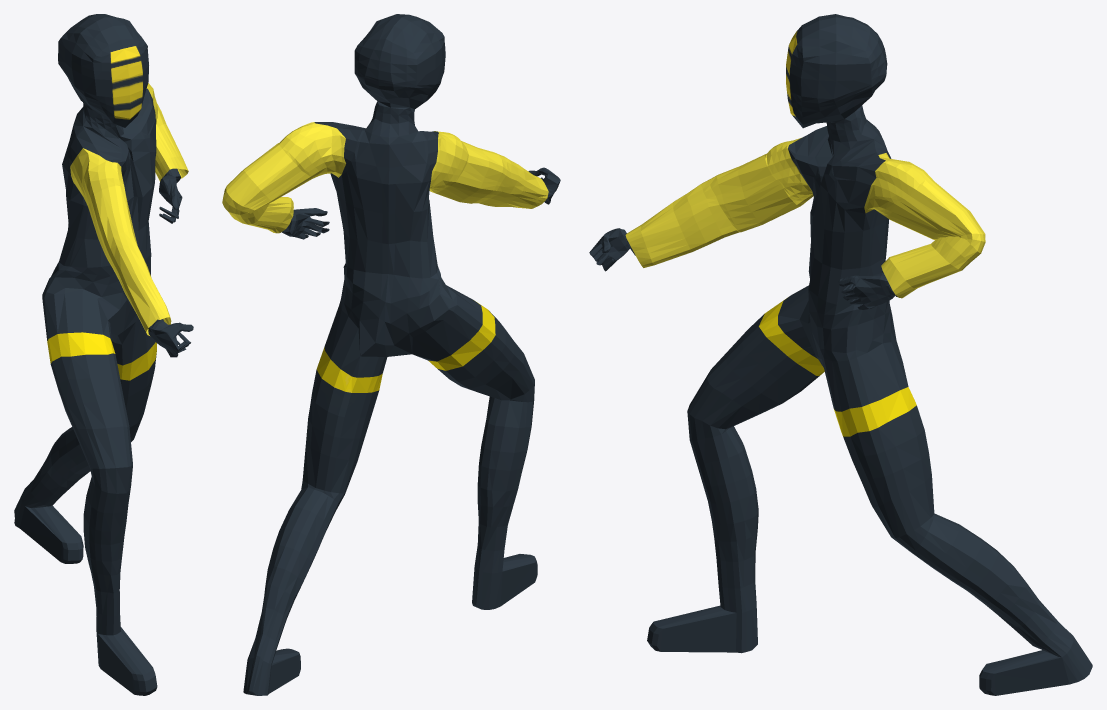
File: Sentry_WL_000001.obj
3 renders of one model, left to right at view 1: azimuth 30°, elevation 25°; view 2: azimuth 150°, elevation 25°; view 3: azimuth 270°, elevation 25°, orthographic. The views are drawn at different scales.
Parts seen in each view (by area): view 1: Cube; view 2: Cube; view 3: Cube.
Part boxes in pixels (x1,y1,x2,y2): Cube: (14, 14, 193, 695); Cube: (222, 14, 560, 695); Cube: (589, 14, 1092, 695).
Bounding box in the file's own units: 1.18 × 3.61 × 2.52.
